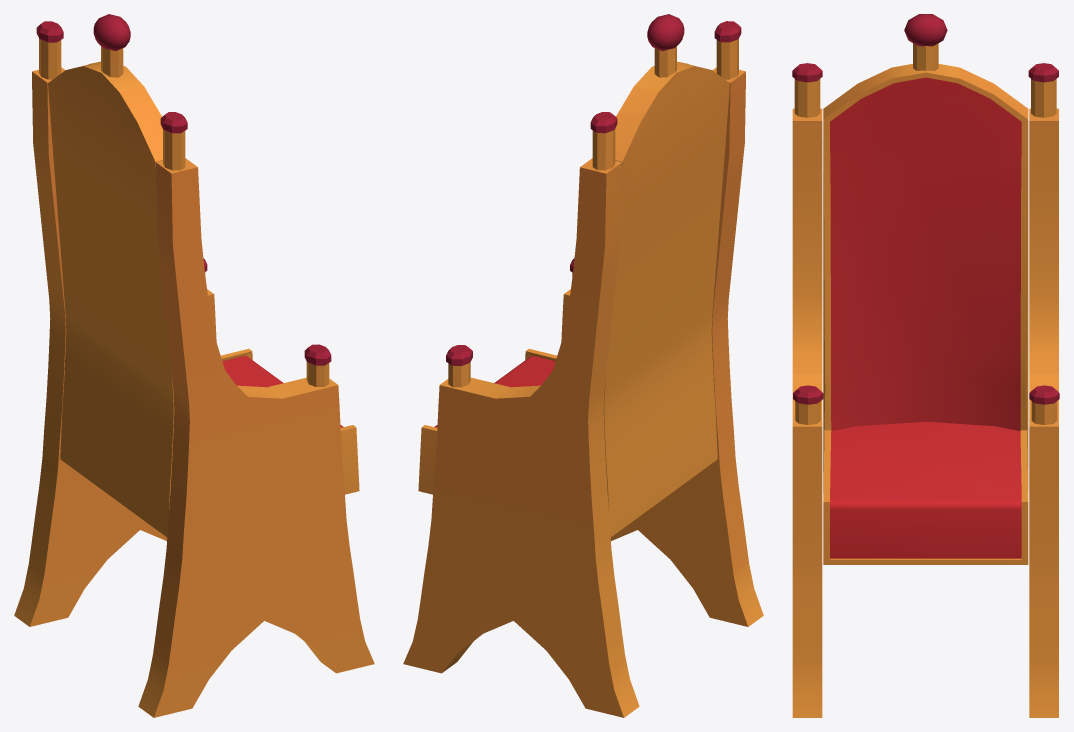
File: Throne.fbx
3 renders of one model, left to right at view 1: azimuth 30°, elevation 25°; view 2: azimuth 150°, elevation 25°; view 3: azimuth 270°, elevation 25°, orthographic. The views are drawn at different scales.
Parts seen in each view (by area): view 1: Throne; view 2: Throne; view 3: Throne.
Part boxes in pixels (left/top/right/bottom): Throne: left=14, top=14, right=374, bottom=717; Throne: left=403, top=14, right=763, bottom=717; Throne: left=792, top=14, right=1059, bottom=717.
Size of the model in its own units: 237 by 658 by 260.
Materials: 1 (1 with a texture image).
